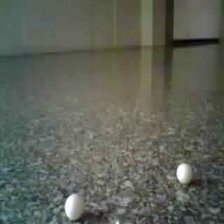w: (65, 193, 84, 221), (175, 163, 193, 183)
